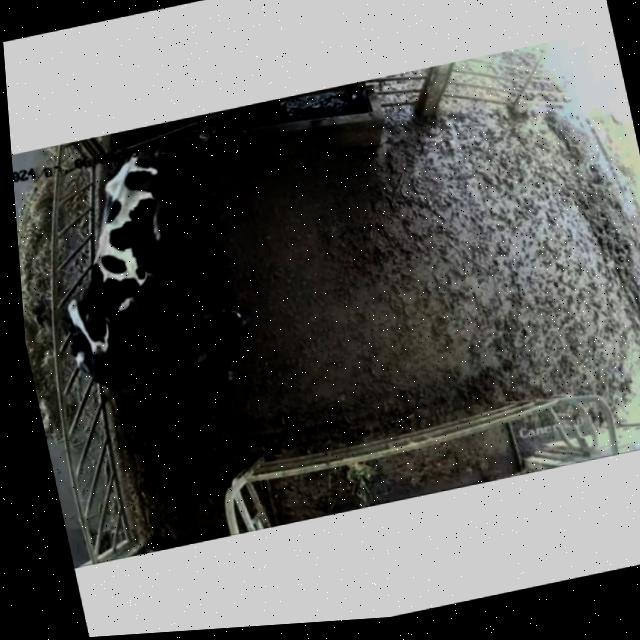propping: (52, 270, 149, 398)
